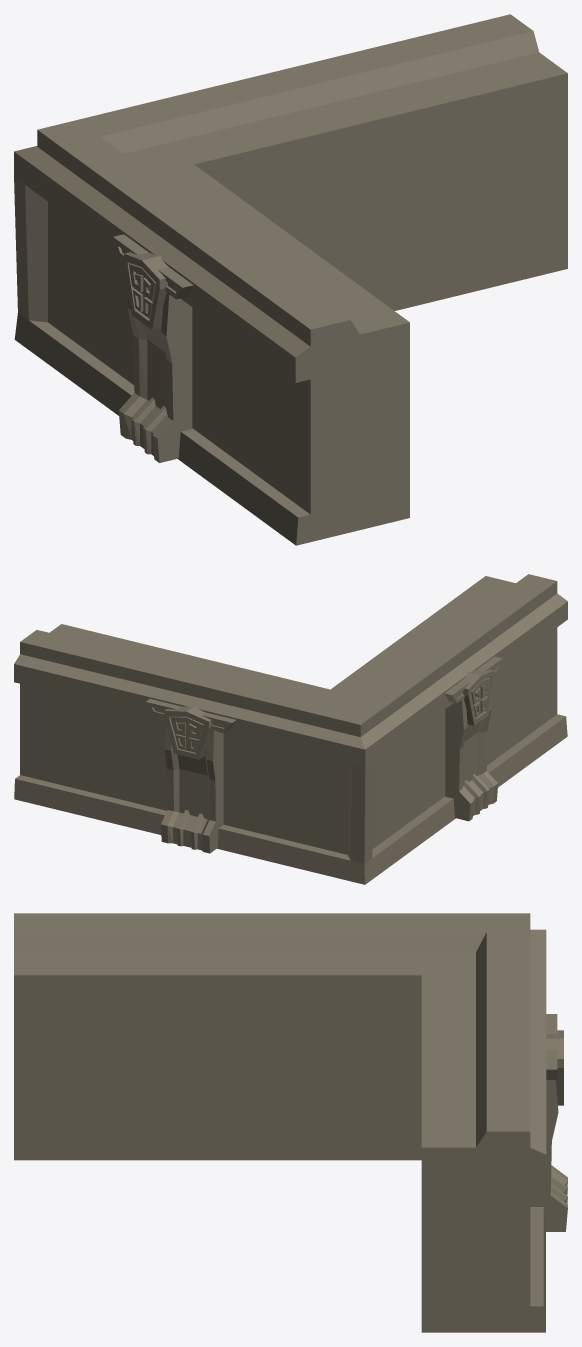
File: TempleFrameA_B.fbx
The picture shows the model from 3 angles, top to bottom: view 1: azimuth 30°, elevation 25°; view 2: azimuth 150°, elevation 25°; view 3: azimuth 270°, elevation 25°; orthographic projection. The views are drawn at different scales.
Visible parts, largest first — view 1: TempleFrameA_B01, TempleFrameA_B02; view 2: TempleFrameA_B01, TempleFrameA_B02; view 3: TempleFrameA_B01, TempleFrameA_B02.
Part boxes in pixels (box(x1,y1,x2,y2)): TempleFrameA_B01: box(14, 14, 567, 545); TempleFrameA_B02: box(113, 234, 193, 462); TempleFrameA_B01: box(14, 574, 567, 884); TempleFrameA_B02: box(146, 656, 501, 853); TempleFrameA_B01: box(14, 913, 546, 1332); TempleFrameA_B02: box(530, 1014, 567, 1231).
Bounding box in the file's own units: 544 × 217 × 543.
